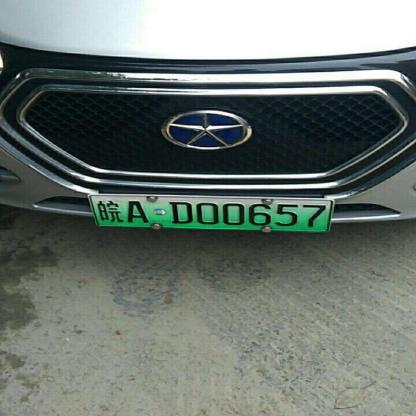lp: (90, 196, 332, 231)
